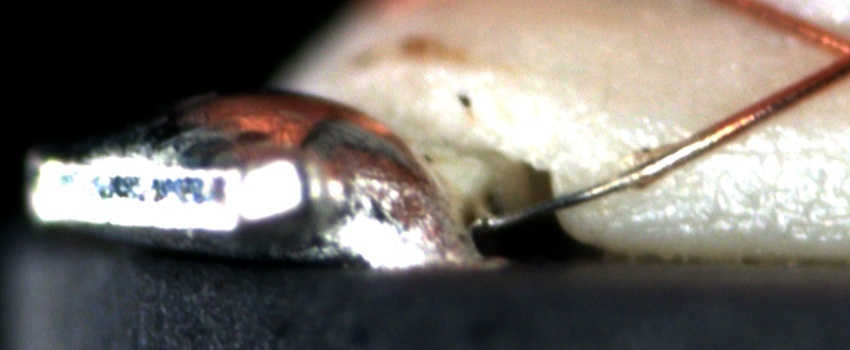DL: (689, 120, 849, 184)
TS: (473, 136, 714, 229)
TTCW: (464, 102, 769, 233)
